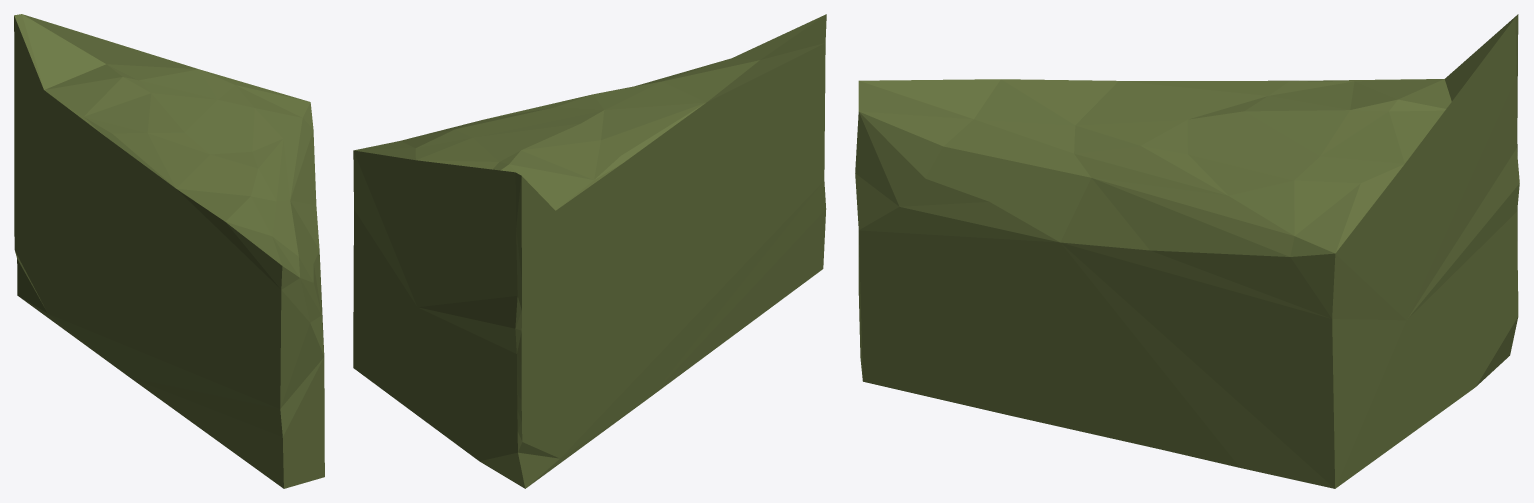
File: ground_42.fbx
The picture shows the model from 3 angles, left to right: view 1: azimuth 30°, elevation 25°; view 2: azimuth 150°, elevation 25°; view 3: azimuth 270°, elevation 25°; orthographic projection. The views are drawn at different scales.
Visible parts, largest first — view 1: ground_42; view 2: ground_42; view 3: ground_42.
Boxes of the visible parts, <box> form: ground_42: <box>14,14,324,488</box>; ground_42: <box>353,14,826,488</box>; ground_42: <box>855,14,1519,488</box>.
Size of the model in its own units: 2.43 by 2.9 by 5.1.
